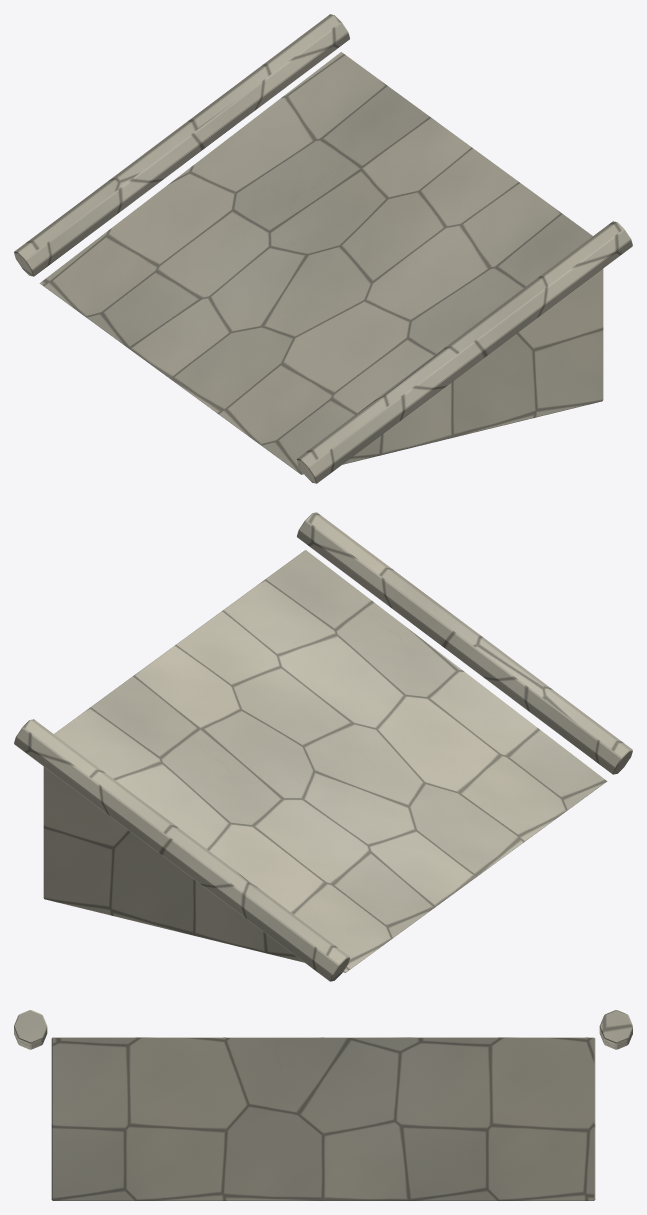
Rendered from t04_ramp_lod1.fbx.
The picture shows the model from 3 angles, top to bottom: view 1: azimuth 30°, elevation 25°; view 2: azimuth 150°, elevation 25°; view 3: azimuth 270°, elevation 25°; orthographic projection. The views are drawn at different scales.
Visible parts, largest first — view 1: t04_ramp.005; view 2: t04_ramp.005; view 3: t04_ramp.005.
Part boxes in pixels (x1,y1,x2,y2): t04_ramp.005: (14,14,632,483); t04_ramp.005: (14,512,632,981); t04_ramp.005: (14,1010,632,1200).
Bounding box in the file's own units: 43746 × 27781 × 15050.
